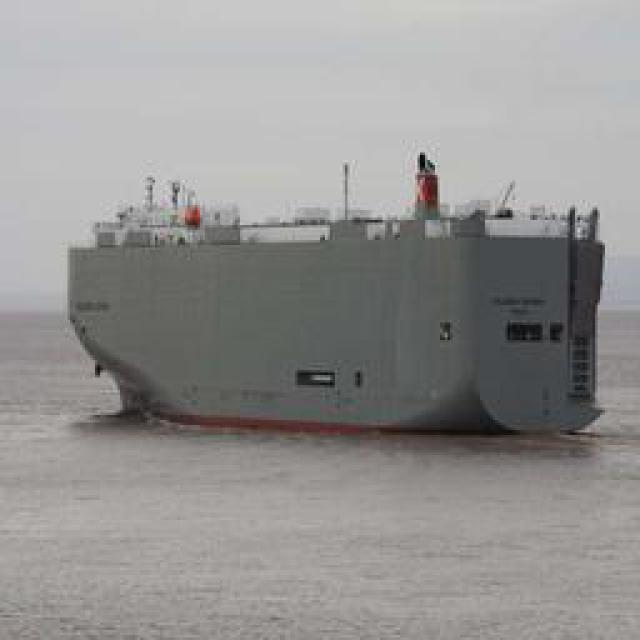Ship: (76, 182, 609, 442)
